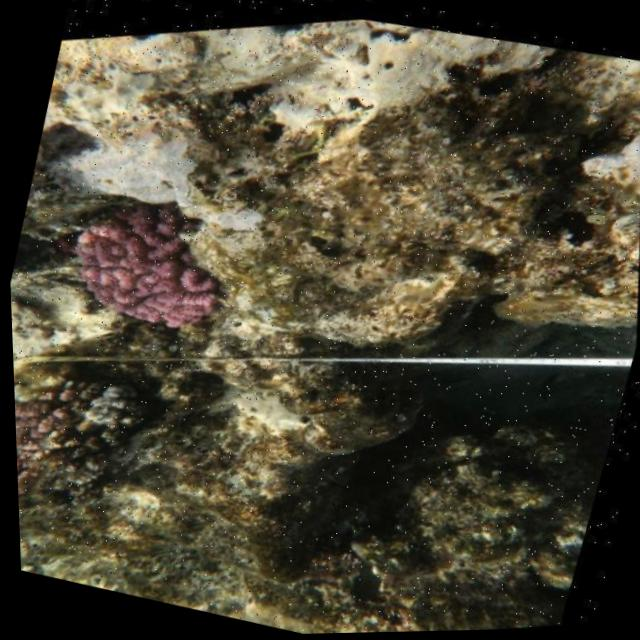Healthy Coral: (41, 153, 266, 366), (11, 365, 94, 510)
